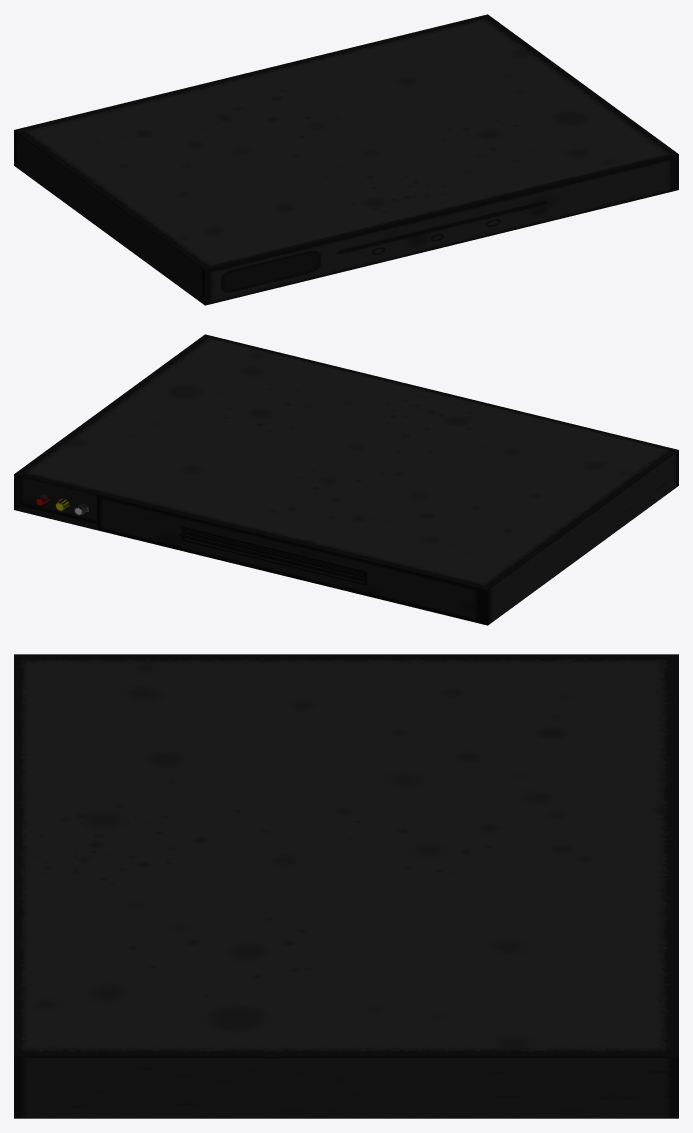
Rendered from dvdPlayer.obj.
The picture shows the model from 3 angles, top to bottom: view 1: azimuth 30°, elevation 25°; view 2: azimuth 150°, elevation 25°; view 3: azimuth 270°, elevation 25°; orthographic projection. The views are drawn at different scales.
Visible parts, largest first — view 1: dvdPlayer; view 2: dvdPlayer; view 3: dvdPlayer.
Part boxes in pixels (left/top/right/bottom): dvdPlayer: left=14, top=14, right=678, bottom=305; dvdPlayer: left=14, top=334, right=678, bottom=625; dvdPlayer: left=14, top=654, right=678, bottom=1118.
Size of the model in its own units: 2 by 0.1442 by 1.4.
